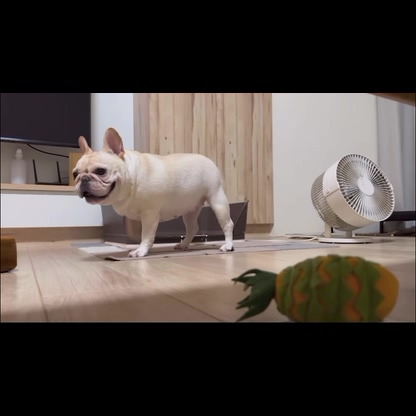bulldog: (69, 125, 237, 255)
